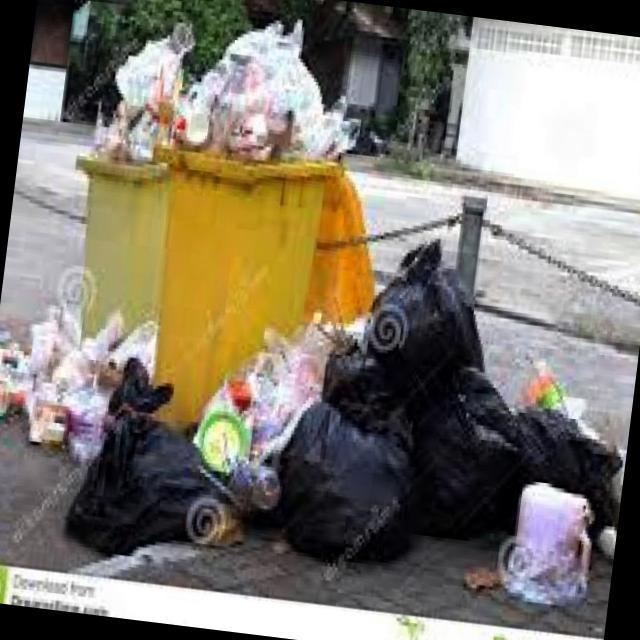garbage: (222, 219, 640, 617), (62, 350, 246, 564), (175, 6, 368, 192), (0, 286, 173, 457), (84, 12, 202, 174)
